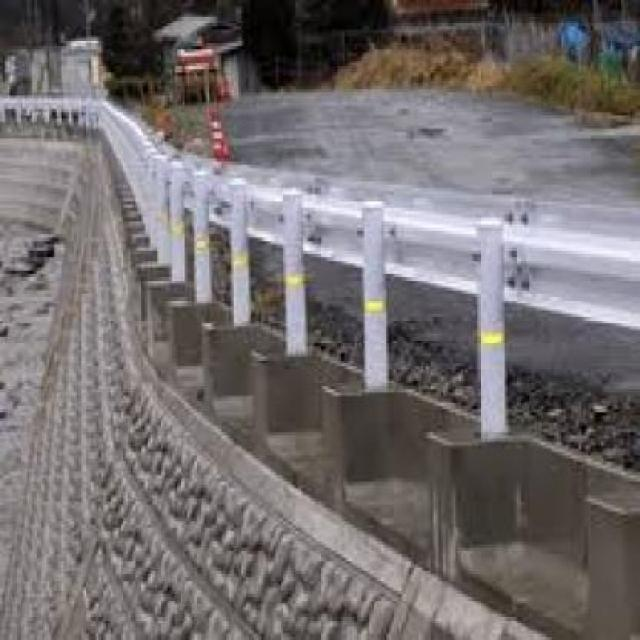Guard rail: (100, 92, 640, 459)
